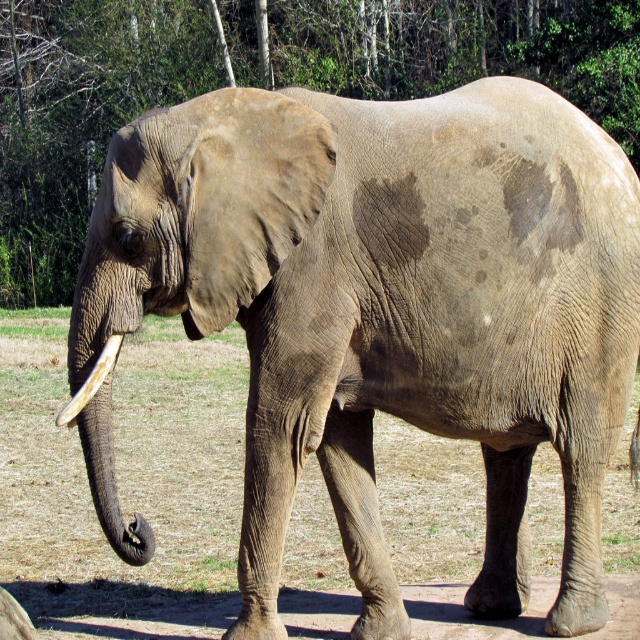Elephant: (55, 79, 640, 639)
